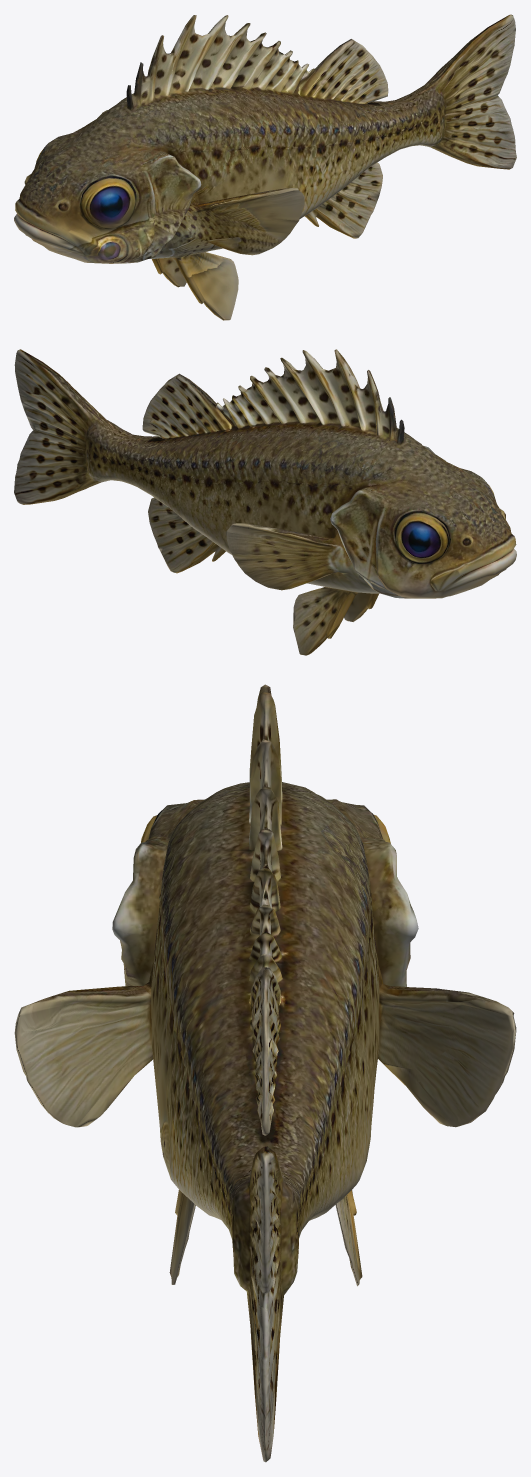
Rendered from fish-ersh.glb.
The picture shows the model from 3 angles, top to bottom: view 1: azimuth 30°, elevation 25°; view 2: azimuth 150°, elevation 25°; view 3: azimuth 270°, elevation 25°; orthographic projection. The views are drawn at different scales.
Visible parts, largest first — view 1: tripo_node_fbbacc2f-1a73-4e11-afe4-fe1165408798; view 2: tripo_node_fbbacc2f-1a73-4e11-afe4-fe1165408798; view 3: tripo_node_fbbacc2f-1a73-4e11-afe4-fe1165408798.
Boxes of the visible parts, x1,y1,x2,y2 form: tripo_node_fbbacc2f-1a73-4e11-afe4-fe1165408798: (14, 14, 516, 320); tripo_node_fbbacc2f-1a73-4e11-afe4-fe1165408798: (14, 349, 516, 655); tripo_node_fbbacc2f-1a73-4e11-afe4-fe1165408798: (14, 684, 516, 1462).
Size of the model in its own units: 0.9999 by 0.5612 by 0.4376.
1 material, 1 textured.
